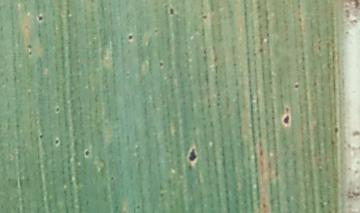tarspot: (185, 141, 201, 164), (281, 104, 292, 129), (166, 5, 177, 18), (36, 11, 46, 25), (82, 148, 92, 159), (53, 105, 64, 115), (126, 32, 136, 43), (53, 136, 62, 148), (26, 43, 33, 58), (199, 13, 210, 20), (158, 60, 165, 69), (38, 131, 44, 141), (293, 81, 299, 90), (333, 126, 339, 135)
